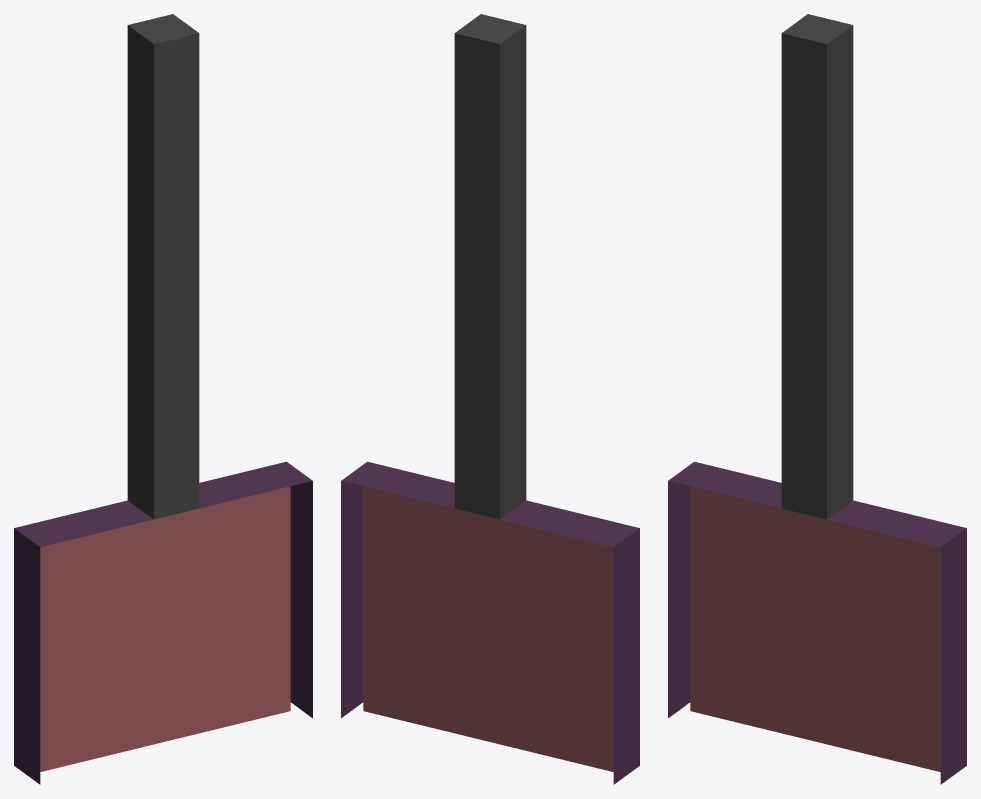
The model's file is flag.obj.
3 views of the same model, side by side, from view 1: azimuth 30°, elevation 25°; view 2: azimuth 150°, elevation 25°; view 3: azimuth 330°, elevation 25° (orthographic).
Visible parts, largest first — view 1: Cube.002_Cube.003; view 2: Cube.002_Cube.003; view 3: Cube.002_Cube.003.
Part boxes in pixels (<box>): Cube.002_Cube.003: <box>14,14,312,784</box>; Cube.002_Cube.003: <box>341,14,639,784</box>; Cube.002_Cube.003: <box>668,14,966,784</box>.
Size of the model in its own units: 6 by 15 by 1.
